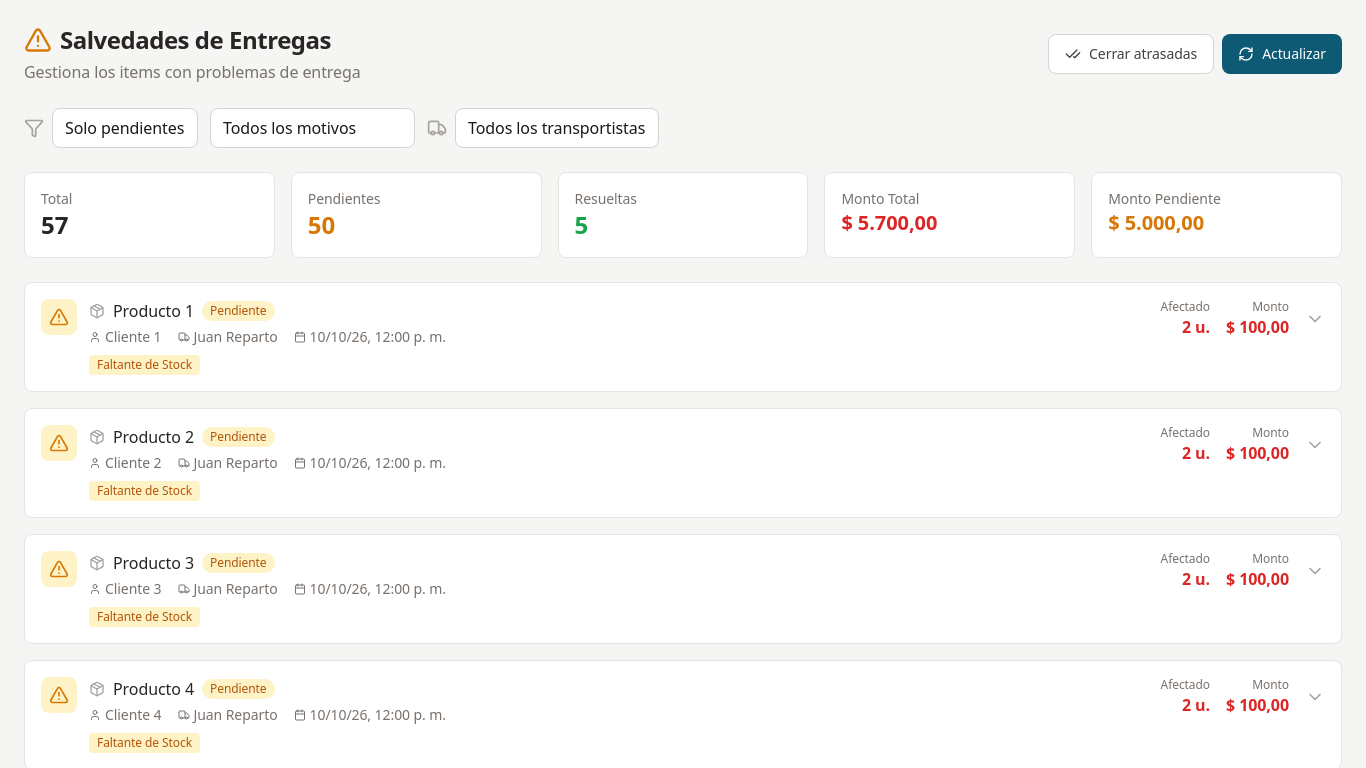
Test: VistaSalvedades — por rol › admin: resuelve y anula
Click the text "Producto 1" at (154,311), box x1=113 y1=299 x2=194 y2=323
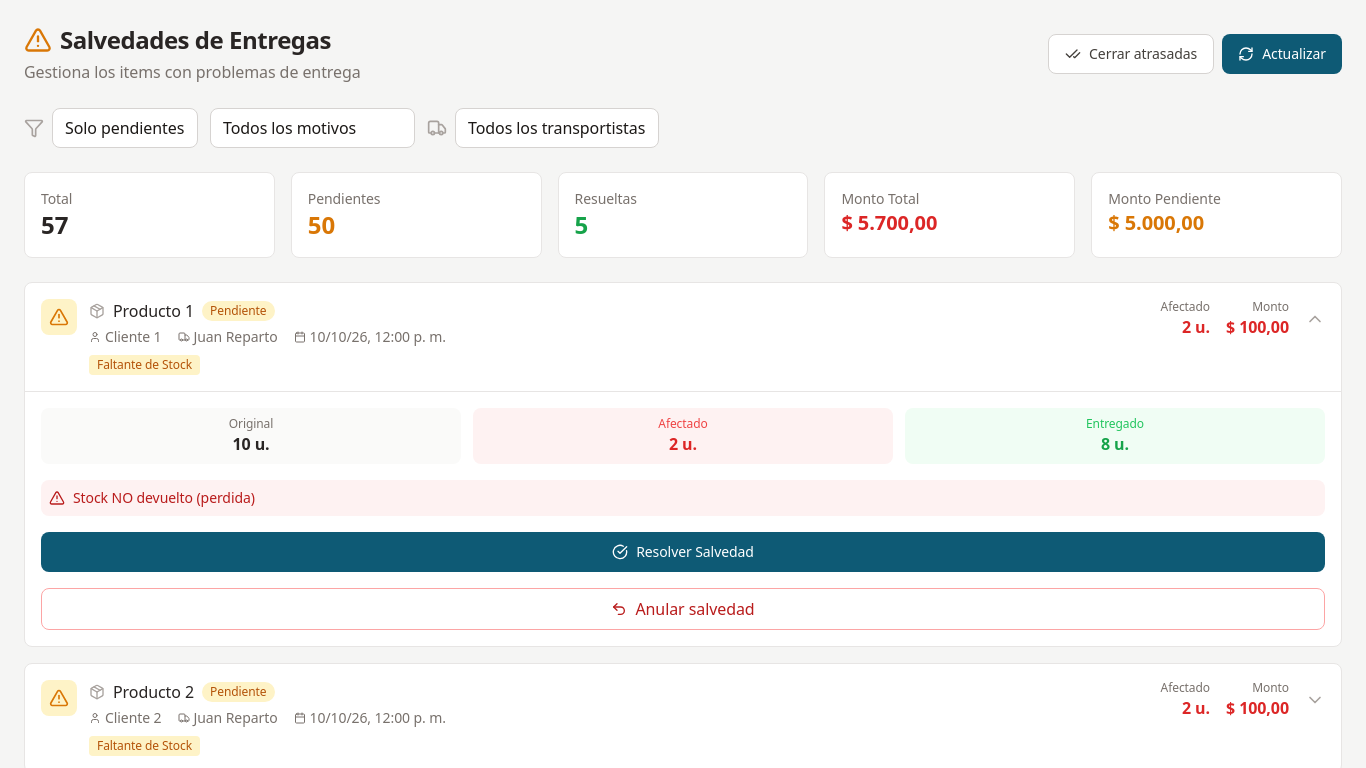
Expected: the button "Resolver Salvedad" is shown, x1=41 y1=532 x2=1325 y2=572
Expected: the button "Anular salvedad" is shown, x1=41 y1=588 x2=1325 y2=630
